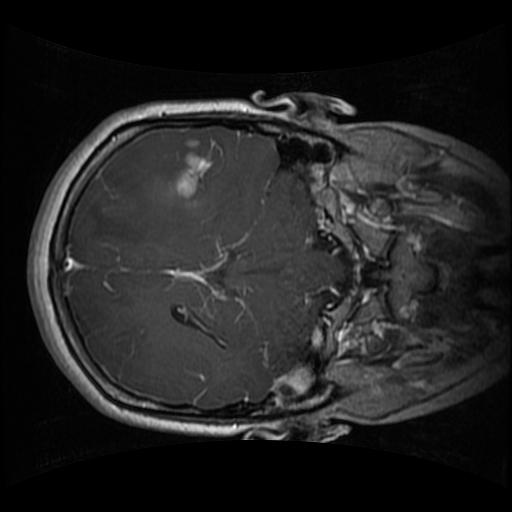glioma: (161, 135, 225, 207)
